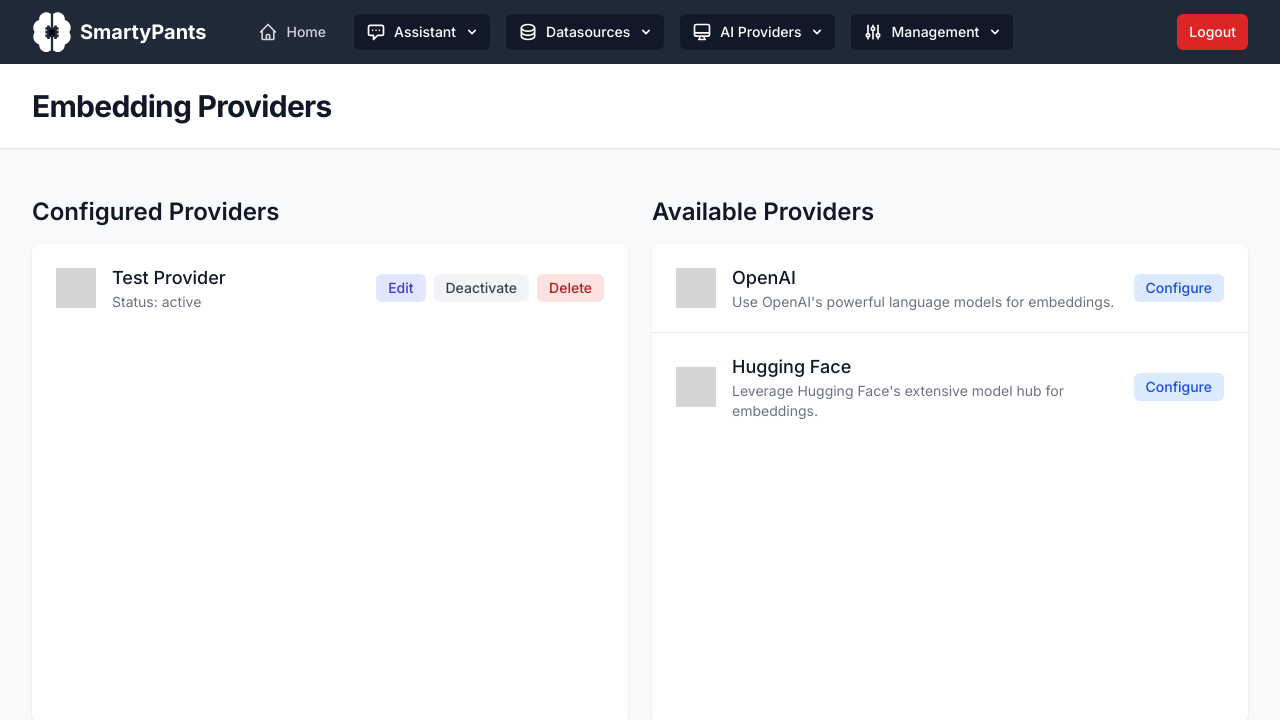
Test: EmbeddingProvidersPage › handles deactivate provider
Expected: the heading "Test Provider" is shown, 112,264 -> 226,292
Click the button "Deactivate": (481, 288) 434,274 -> 529,302
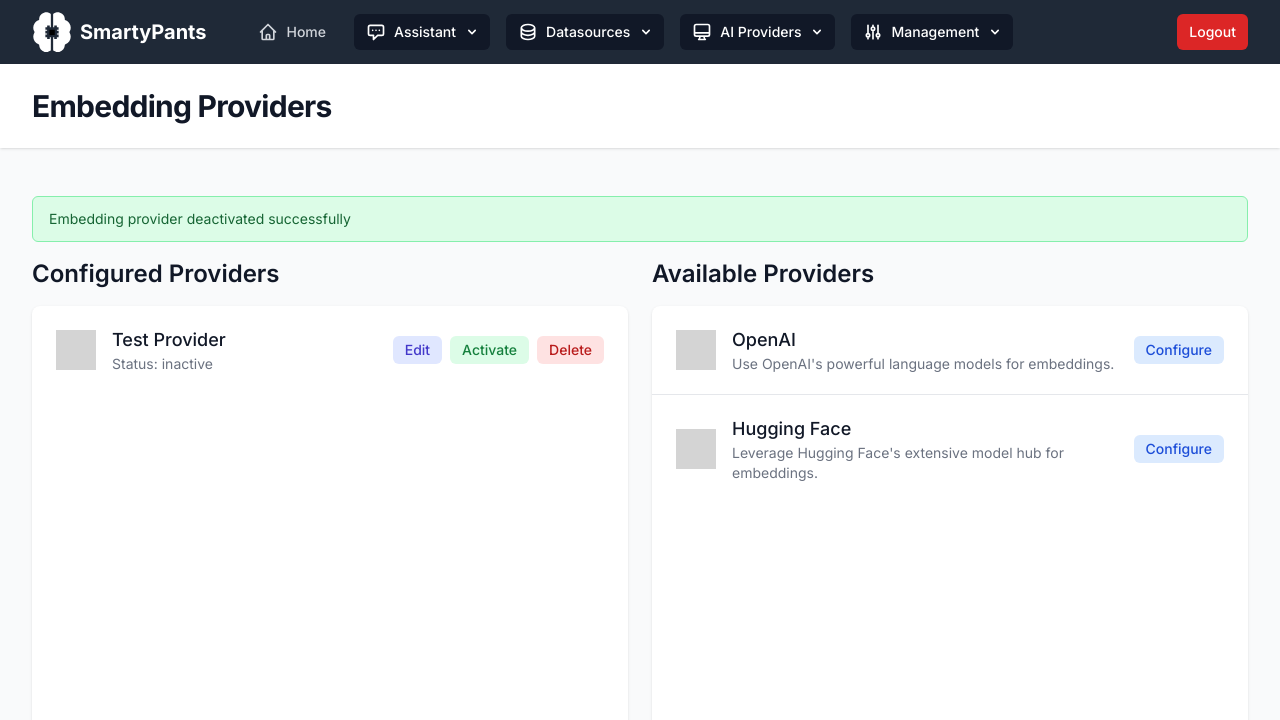
Now the text "Embedding provider deactivated successfully" is shown, box 49,210 -> 351,227
